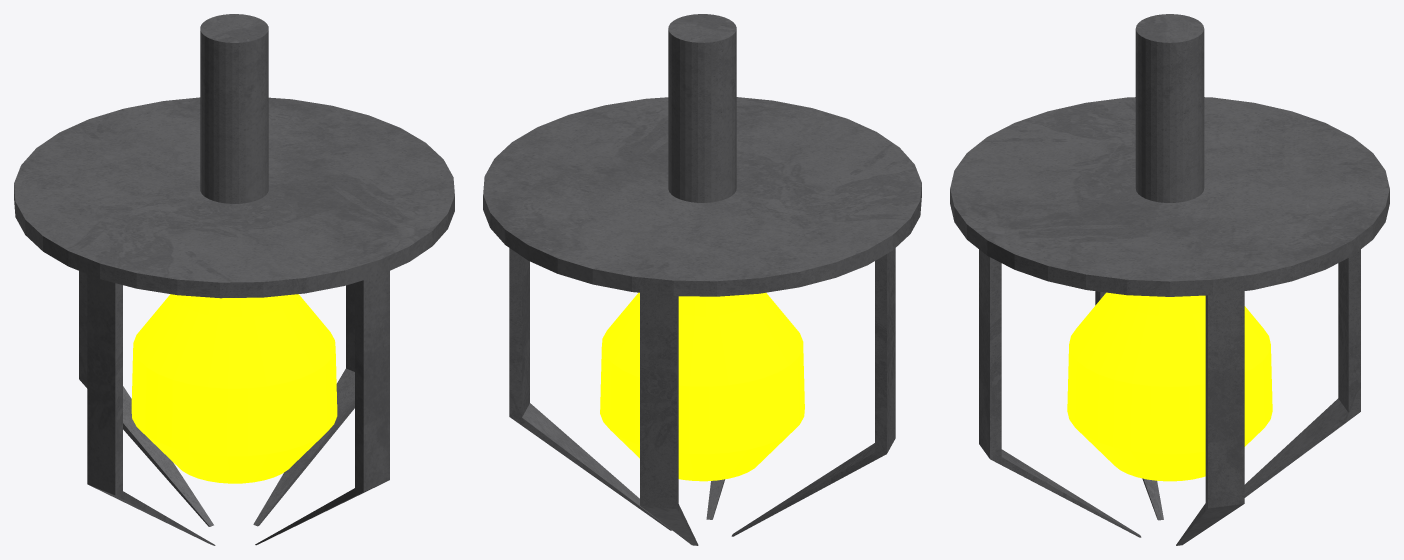
File: Lamp.fbx
3 renders of one model, left to right at view 1: azimuth 30°, elevation 25°; view 2: azimuth 150°, elevation 25°; view 3: azimuth 270°, elevation 25°, orthographic.
Parts seen in each view (by area): view 1: Lamp; view 2: Lamp; view 3: Lamp.
Boxes of the visible parts, x1,y1,x2,y2 form: Lamp: (14, 14, 454, 545); Lamp: (483, 14, 921, 545); Lamp: (950, 14, 1389, 545).
Bounding box in the file's own units: 671 × 849 × 671.
